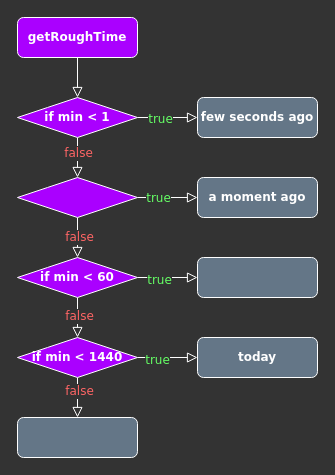
This 335x475 diagram has some shape labels left out. The shapes that lost their labels are listed below. From the top down, each one's box as (x1, y1, x2, y2) in pixels, then its label:
(16, 176, 138, 218): if min < 10
(196, 256, 318, 298): about an hour ago
(16, 416, 138, 458): long time ago
